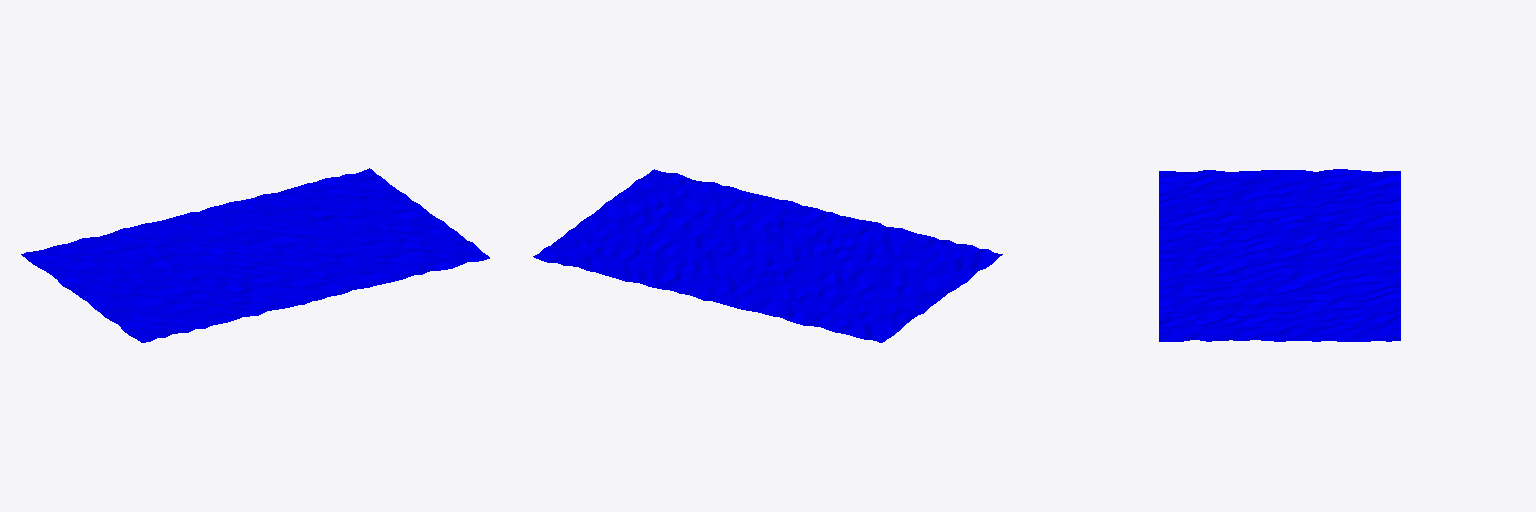
The model's file is sea.obj.
3 views of the same model, side by side, from view 1: azimuth 30°, elevation 25°; view 2: azimuth 150°, elevation 25°; view 3: azimuth 270°, elevation 25° (orthographic).
Parts seen in each view (by area): view 1: Sea; view 2: Sea; view 3: Sea.
Boxes of the visible parts, box(x1,y1,x2,y2) form: Sea: box(21, 168, 489, 342); Sea: box(533, 169, 1002, 342); Sea: box(1159, 169, 1400, 341).
Bounding box in the file's own units: 2791 × 33.11 × 1679.